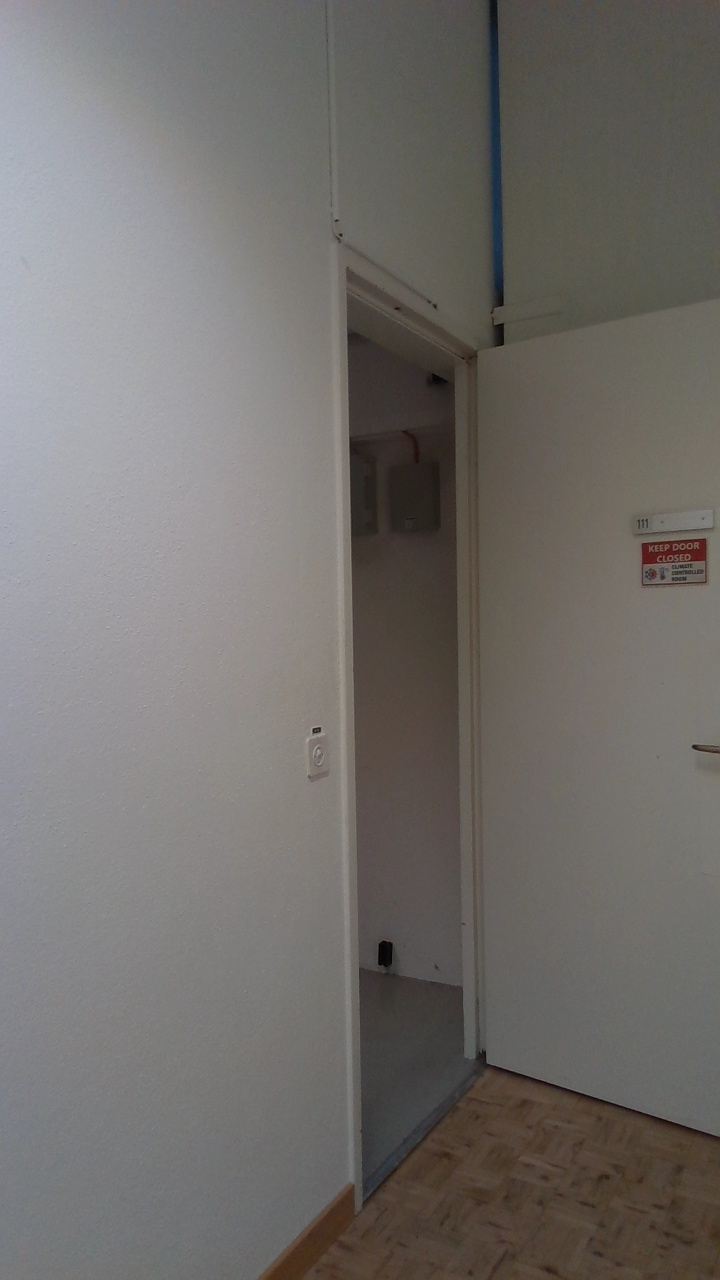Light_Switch: (305, 739, 331, 781)
